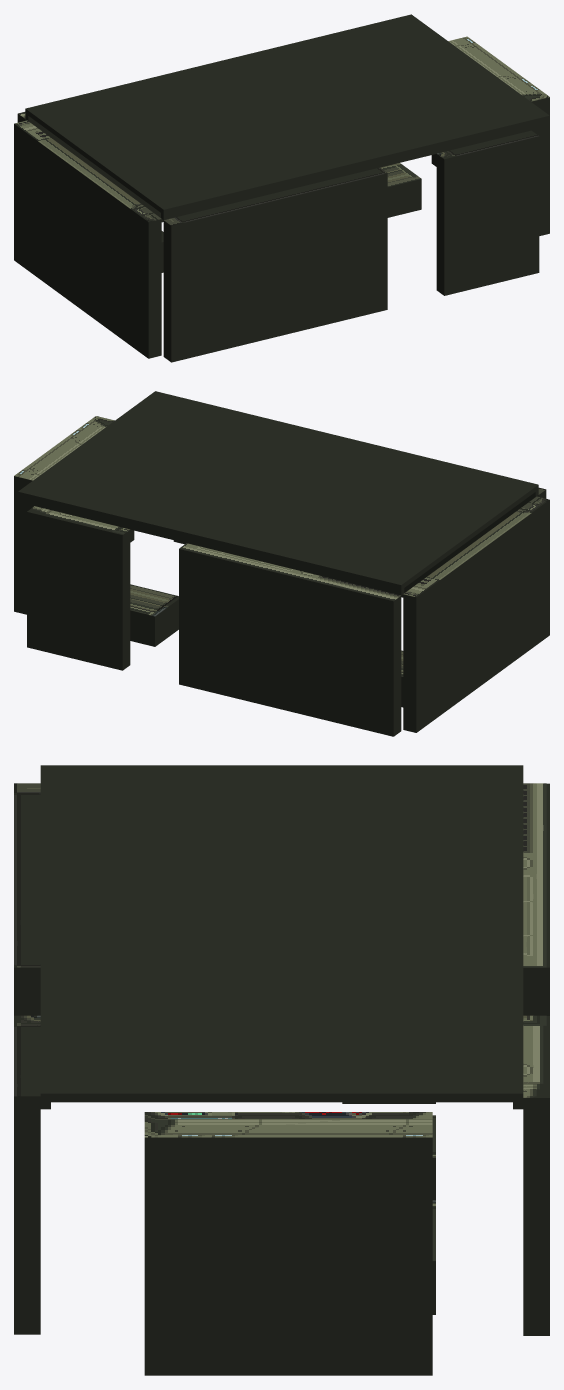
The model's file is CMU3DInteriorVehicleSPPAPCChassis.glb.
The picture shows the model from 3 angles, top to bottom: view 1: azimuth 30°, elevation 25°; view 2: azimuth 150°, elevation 25°; view 3: azimuth 270°, elevation 25°; orthographic projection. The views are drawn at different scales.
Visible parts, largest first — view 1: armored hull wall (×5), cabin roof, armored hull wall source finish (×4), roof edge, built-in troop bench, built-in troop bench source finish; view 2: armored hull wall (×5), cabin roof, armored hull wall source finish (×4), roof edge, built-in troop bench, built-in troop bench source finish; view 3: cabin roof, armored hull wall (×5), armored hull wall source finish (×5).
Part boxes in pixels (x1,y1,x2,y2): armored hull wall (×5): (14, 97, 549, 362); cabin roof: (25, 14, 549, 214); armored hull wall source finish (×4): (14, 36, 549, 225); roof edge: (161, 121, 546, 220); built-in troop bench: (387, 179, 421, 217); built-in troop bench source finish: (380, 163, 421, 186); armored hull wall (×5): (14, 476, 549, 736); cabin roof: (18, 391, 538, 589); armored hull wall source finish (×4): (14, 416, 548, 600); roof edge: (21, 497, 404, 595); built-in troop bench: (130, 596, 178, 646); built-in troop bench source finish: (130, 584, 178, 616); cabin roof: (40, 765, 523, 1102); armored hull wall (×5): (14, 783, 549, 1375); armored hull wall source finish (×5): (14, 783, 546, 1137).
Size of the model in its own units: 8.06 by 2.64 by 5.
11 materials, 10 textured.
